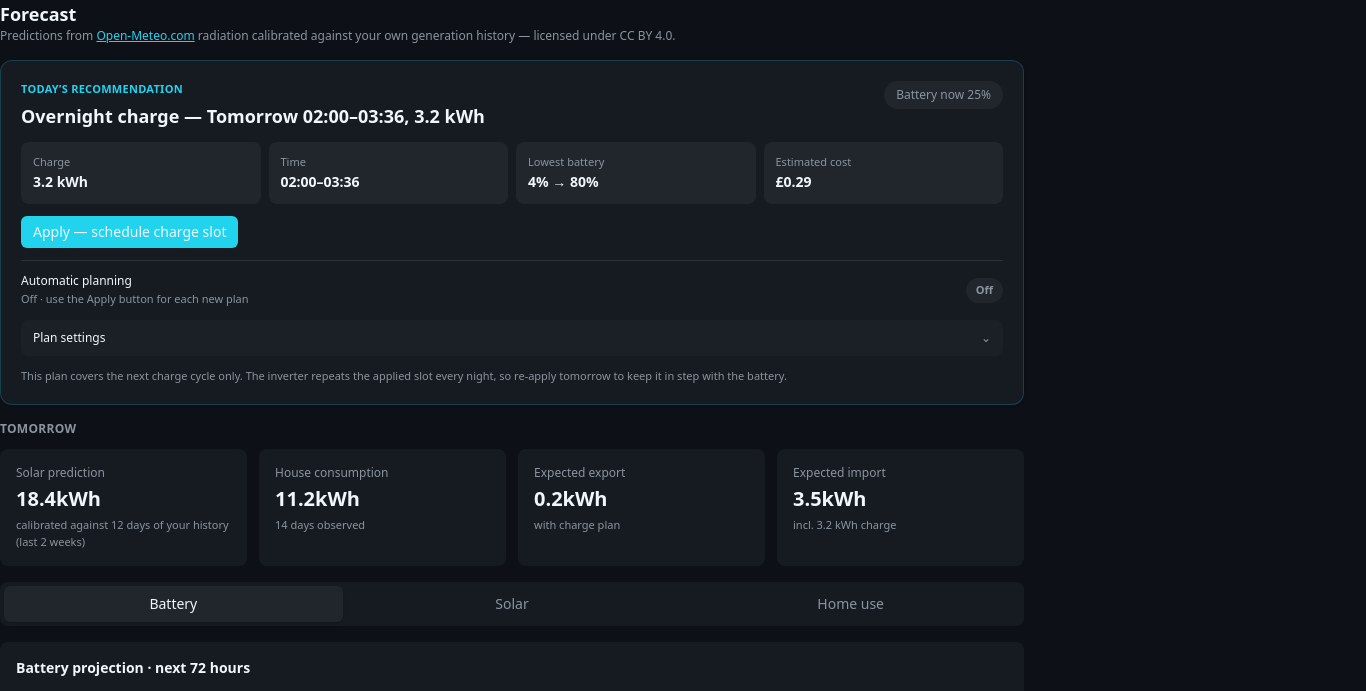
Test: ForecastPage plan card › shows inverter-write progress while applying the charge plan
The image size is (1366, 691).
Click the button with test id "forecast-plan-apply" at [130, 232], box [21,216,238,248]
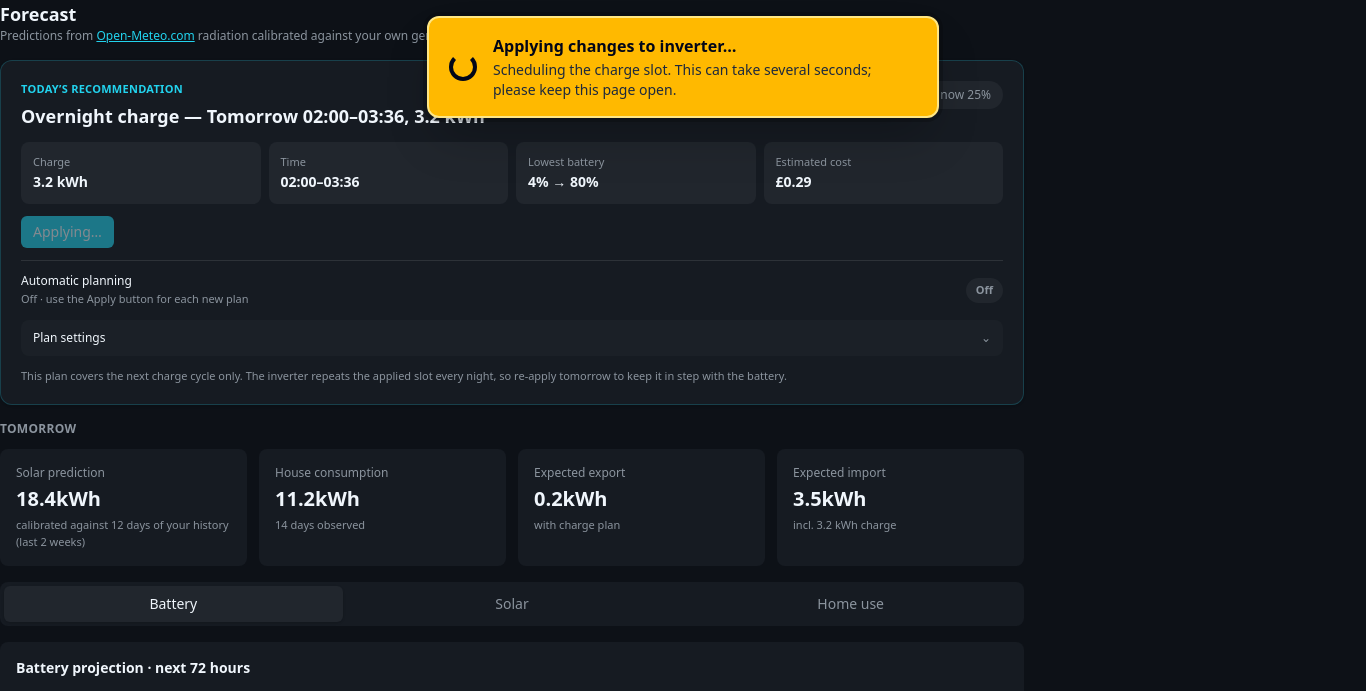
expect the message shows "Applying changes to inverter": met, box [493,35,736,57]
expect the button with test id "forecast-plan-apply" is disabled: met, box [21,216,114,248]
